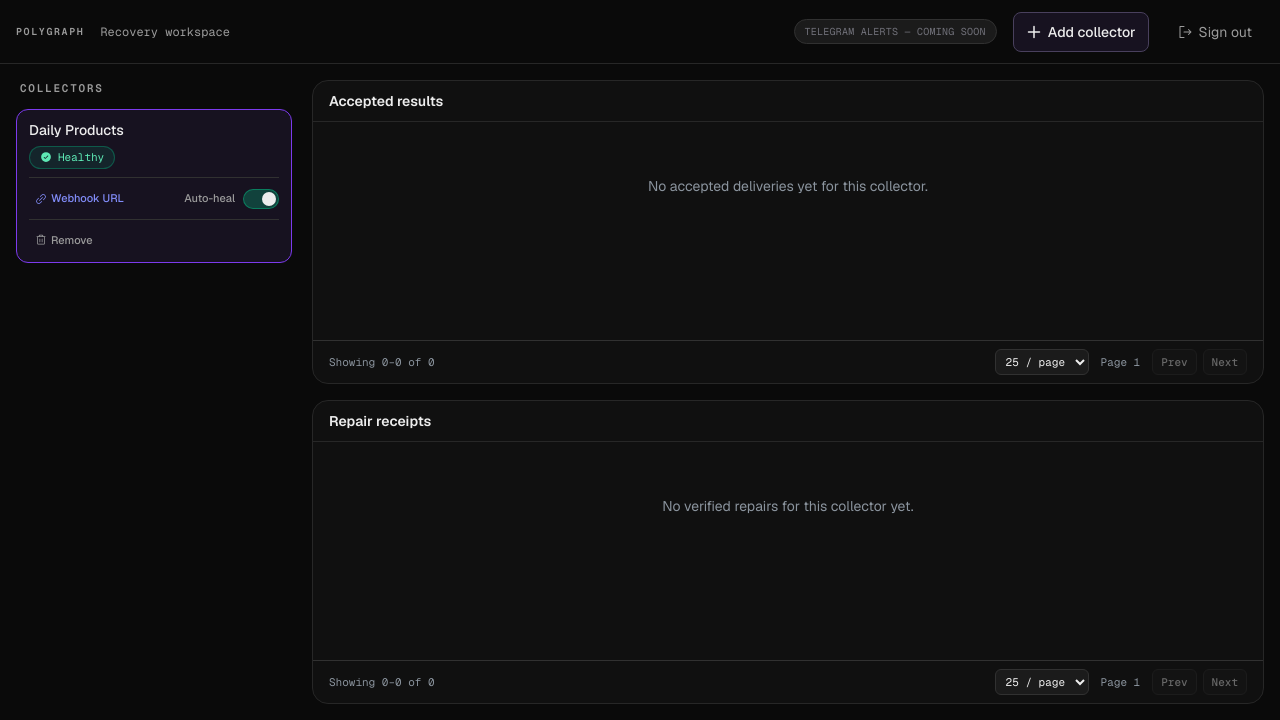
it: RecoveryWorkspace — remove collector › posts the remove route on confirm and refreshes the rail from the server
This screenshot has width=1280, height=720.
What coordinates should you click on to do the following:
click the button with aria-label "Remove Daily Products"
I would click on:
 (64, 240)
Its box is 29,228 -> 98,252.
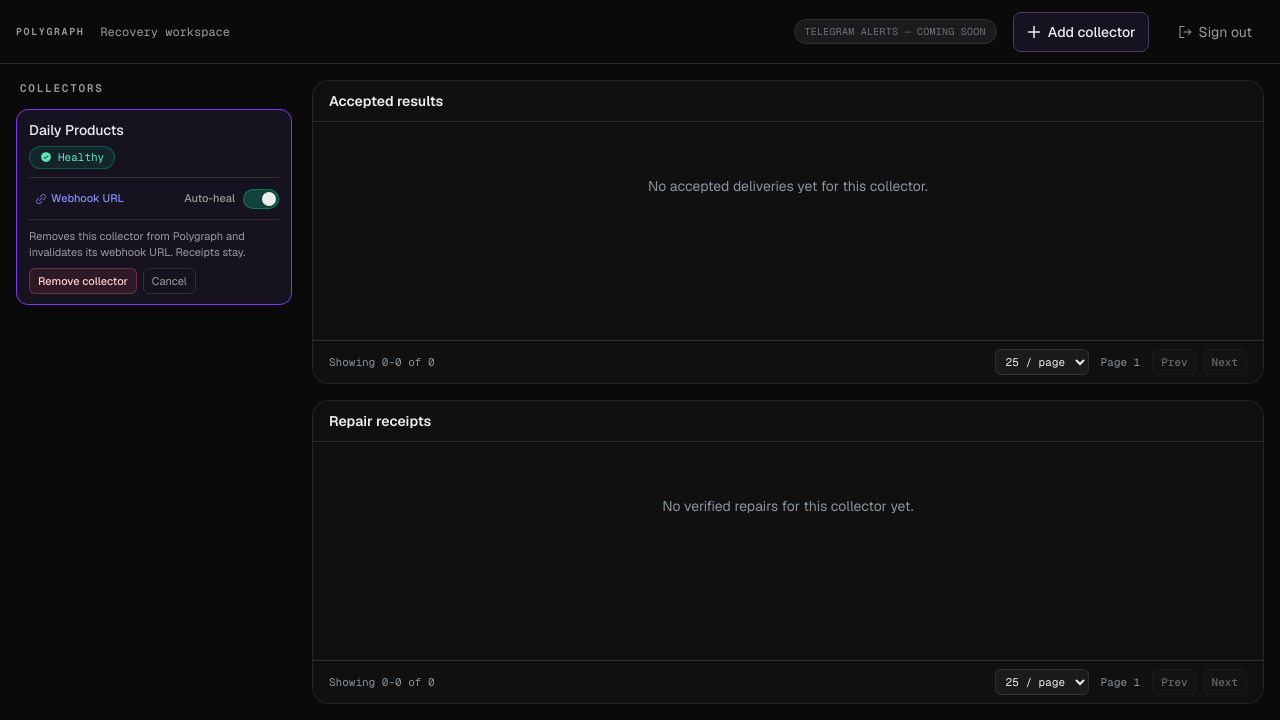
What coordinates should you click on to do the following:
click the button "Remove collector"
I would click on:
 (83, 281)
Its box is 29,268 -> 137,294.
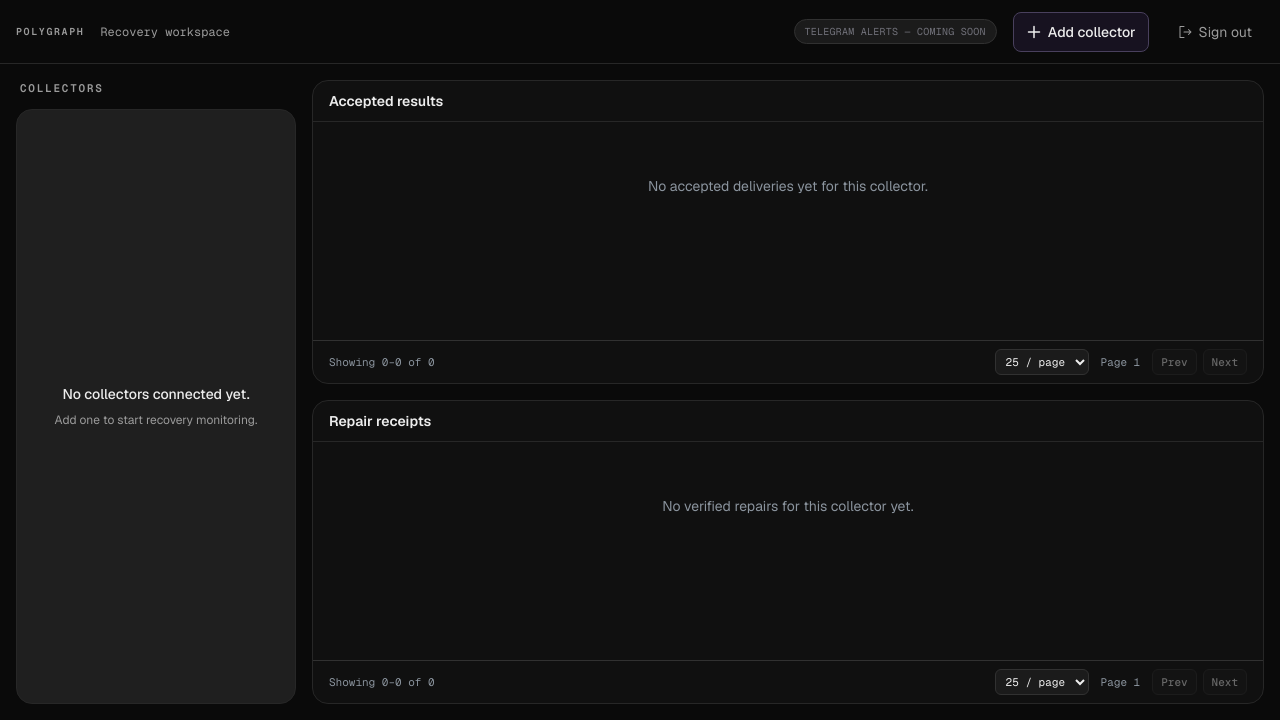
Expected: the element with test id "recovery-empty-rail" is shown, 16,108 -> 296,704
Expected: the button "Daily Products" is gone
